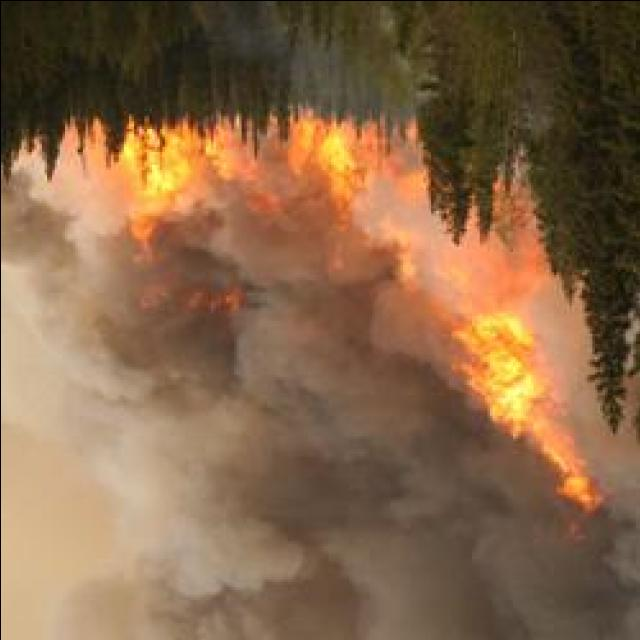fire: (456, 308, 540, 420), (130, 122, 190, 204), (316, 124, 364, 204)
smoke: (334, 447, 512, 602), (218, 334, 422, 451), (183, 494, 321, 600), (369, 228, 448, 380), (59, 326, 185, 406), (428, 235, 552, 313), (40, 181, 127, 248), (230, 228, 320, 276), (607, 518, 640, 590), (583, 443, 640, 482)
